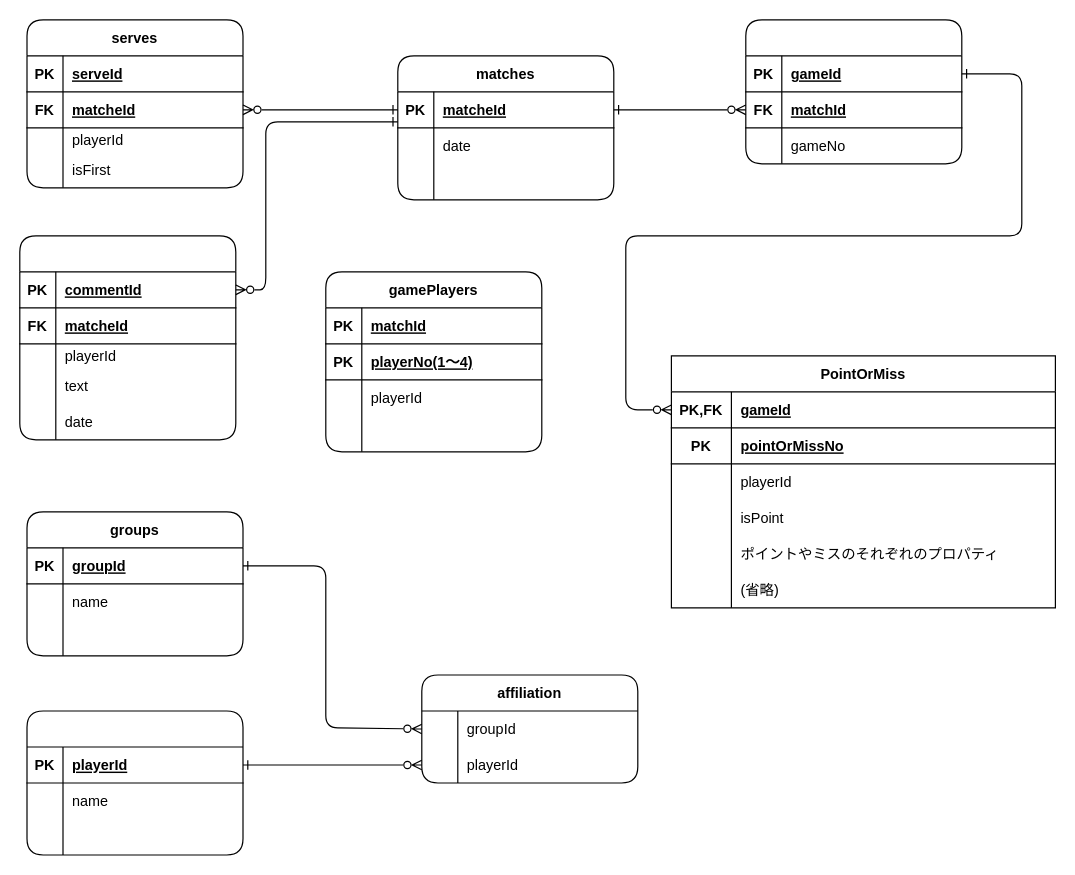
The diagram is 1075 pixels wide and 875 high, and some of its shapes have lost their labels. The box of each missing label's shape, as (x1, y1, x2, y2) in pixels:
comments: (19, 235, 236, 440)
games: (745, 19, 962, 164)
players: (26, 710, 243, 855)
